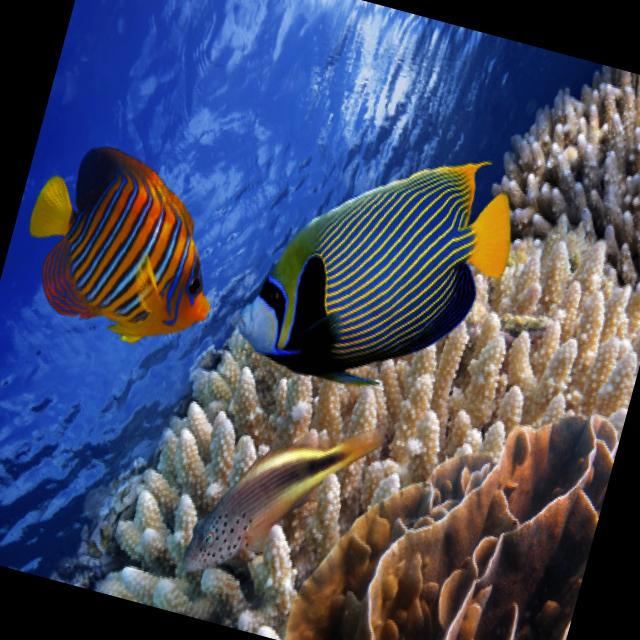AngelFish: (231, 109, 530, 418), (5, 132, 242, 359)
